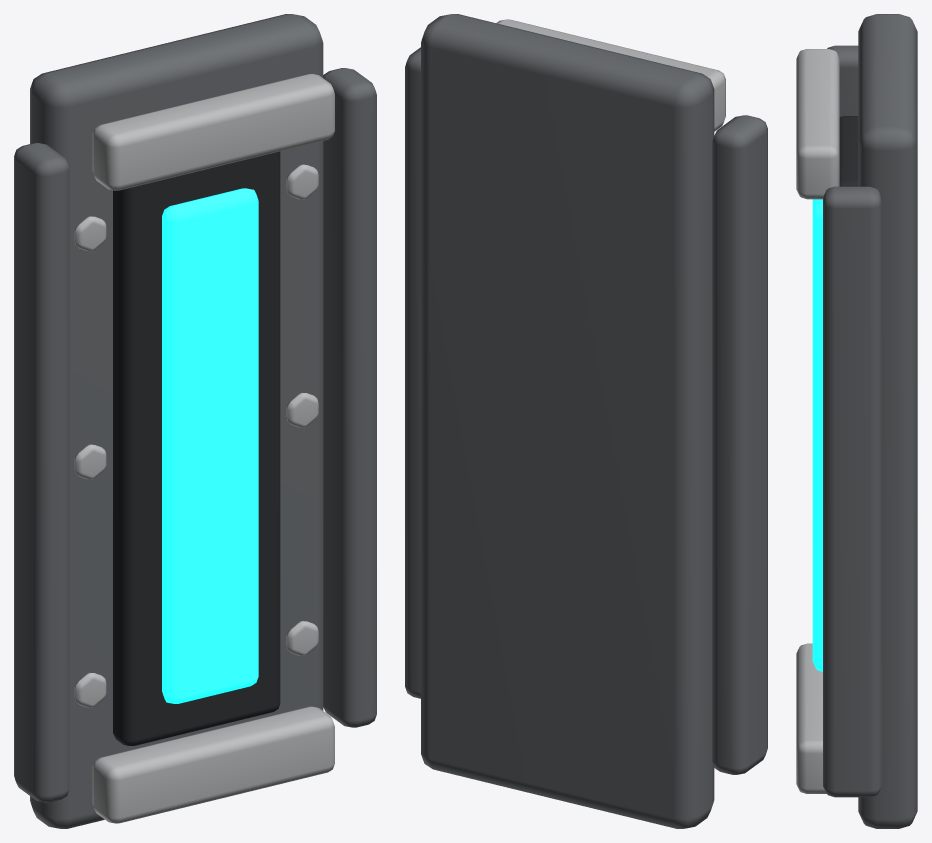
File: CyberWallLantern.fbx
The picture shows the model from 3 angles, left to right: view 1: azimuth 30°, elevation 25°; view 2: azimuth 150°, elevation 25°; view 3: azimuth 270°, elevation 25°; orthographic projection. The views are drawn at different scales.
Parts seen in each view (by area): view 1: CWL_wall mounted armored back plate, CWL_cyan frosted vertical light core, CWL_black recessed center channel, CWL_left protective side rail, CWL_right protective side rail, CWL_bottom silver retaining clamp, CWL_top silver retaining clamp, CWL_visible hex bolt pair left 0.00, CWL_visible hex bolt pair left 0.22, CWL_visible hex bolt pair right 0.00, CWL_visible hex bolt pair right 0.22, CWL_visible hex bolt pair left -0.22 (+1 smaller); view 2: CWL_wall mounted armored back plate, CWL_left protective side rail, CWL_right protective side rail, CWL_top silver retaining clamp; view 3: CWL_right protective side rail, CWL_wall mounted armored back plate, CWL_top silver retaining clamp, CWL_cyan frosted vertical light core, CWL_bottom silver retaining clamp, CWL_left protective side rail, CWL_black recessed center channel.
Boxes of the visible parts, box(x1,y1,x2,y2) form: CWL_wall mounted armored back plate: box(30, 14, 323, 828); CWL_cyan frosted vertical light core: box(162, 188, 258, 703); CWL_black recessed center channel: box(113, 151, 280, 745); CWL_left protective side rail: box(14, 143, 69, 802); CWL_right protective side rail: box(323, 68, 376, 727); CWL_bottom silver retaining clamp: box(92, 706, 334, 823); CWL_top silver retaining clamp: box(92, 74, 334, 190); CWL_visible hex bolt pair left 0.00: box(74, 444, 106, 479); CWL_visible hex bolt pair left 0.22: box(74, 216, 106, 251); CWL_visible hex bolt pair right 0.00: box(286, 392, 318, 427); CWL_visible hex bolt pair right 0.22: box(286, 164, 318, 199); CWL_visible hex bolt pair left -0.22: box(74, 672, 106, 707); CWL_wall mounted armored back plate: box(421, 14, 714, 828); CWL_left protective side rail: box(712, 115, 767, 774); CWL_right protective side rail: box(405, 47, 420, 698); CWL_top silver retaining clamp: box(496, 19, 725, 131); CWL_right protective side rail: box(823, 186, 881, 797); CWL_wall mounted armored back plate: box(858, 14, 917, 828); CWL_top silver retaining clamp: box(796, 49, 839, 199); CWL_cyan frosted vertical light core: box(812, 199, 822, 671); CWL_bottom silver retaining clamp: box(796, 643, 826, 793); CWL_left protective side rail: box(827, 45, 858, 116); CWL_black recessed center channel: box(839, 116, 858, 186).
Bounding box in the file's own units: 36.23 × 75.6 × 11.81.
